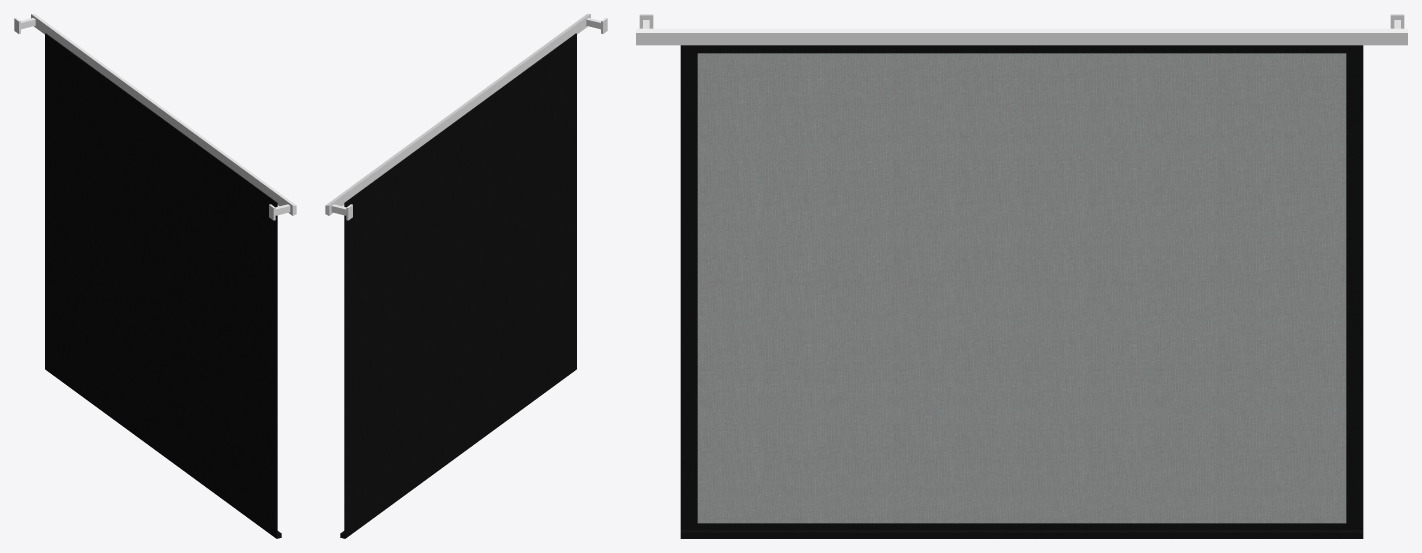
Rendered from projector_screen.obj.
3 views of the same model, side by side, from view 1: azimuth 30°, elevation 25°; view 2: azimuth 150°, elevation 25°; view 3: azimuth 270°, elevation 25° (orthographic). The views are drawn at different scales.
Visible parts, largest first — view 1: projector_screen; view 2: projector_screen; view 3: projector_screen.
Boxes of the visible parts, <box> form: projector_screen: <box>14,14,296,538</box>; projector_screen: <box>325,14,607,538</box>; projector_screen: <box>636,14,1407,538</box>.
Size of the model in its own units: 0.11 by 1.64 by 2.26.
3 materials, 3 textured.
